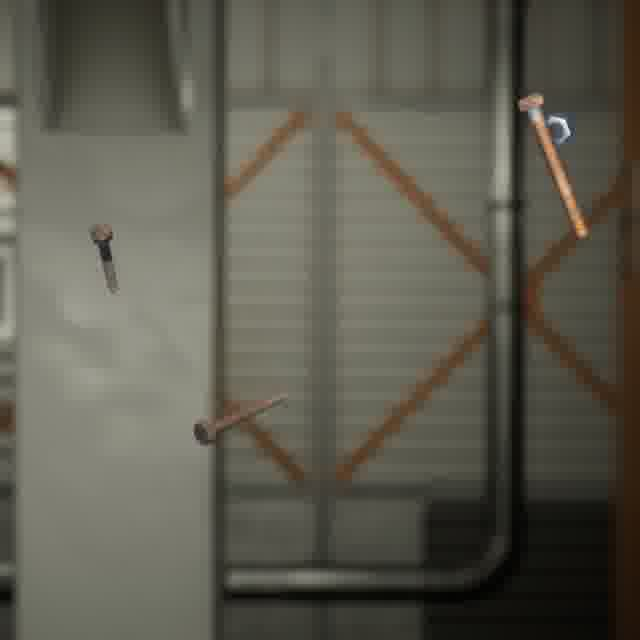bolt: (512, 88, 593, 242), (189, 385, 291, 450), (85, 219, 121, 298)
nut: (542, 107, 579, 149)
